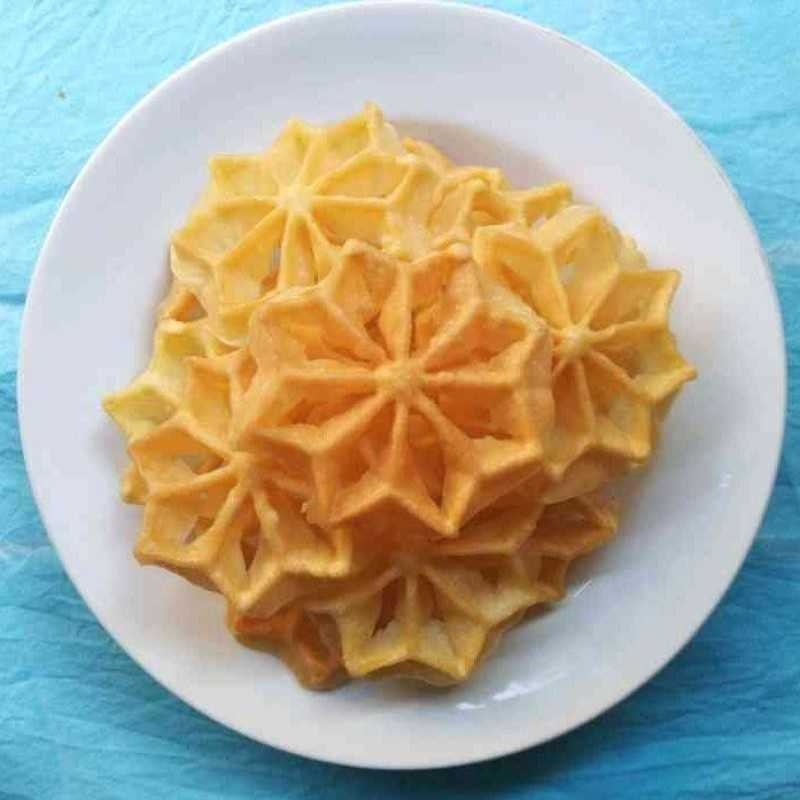kembang_goyang: (250, 233, 544, 533)
